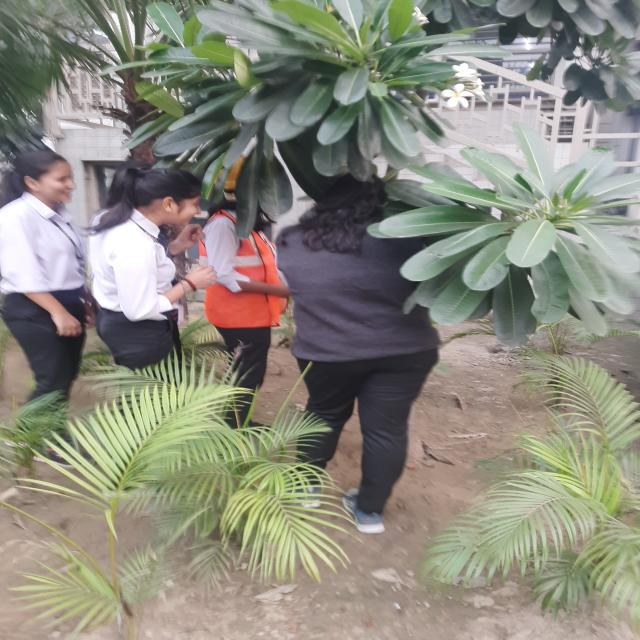safe: (205, 157, 297, 445)
unsafe: (277, 168, 443, 531), (88, 162, 209, 458), (0, 145, 86, 460)
